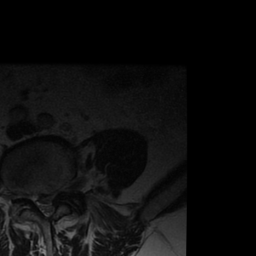CCS_normal: (41, 186, 49, 220)
LFS_severe_stenosis: (55, 180, 63, 201)
LLS_stenosis: (48, 183, 55, 212)
RFS_stenosis: (23, 181, 32, 209)
RLS_normal: (32, 188, 41, 212)
